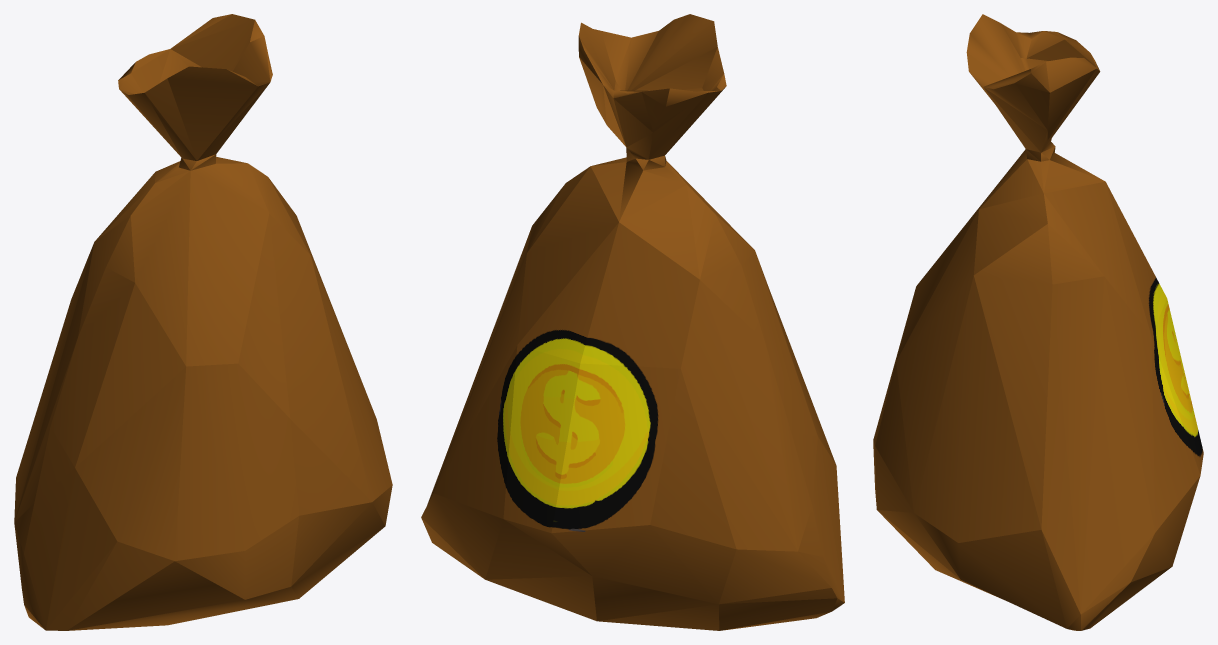
File: CoinsSack.fbx
3 renders of one model, left to right at view 1: azimuth 30°, elevation 25°; view 2: azimuth 150°, elevation 25°; view 3: azimuth 270°, elevation 25°, orthographic. The views are drawn at different scales.
Parts seen in each view (by area): view 1: Money_Sack_B4; view 2: Money_Sack_B4; view 3: Money_Sack_B4.
Part boxes in pixels (<box>): Money_Sack_B4: <box>14,14,392,630</box>; Money_Sack_B4: <box>421,14,844,630</box>; Money_Sack_B4: <box>873,14,1203,630</box>.
Size of the model in its own units: 2.62 by 3.66 by 2.05.
1 material, 1 textured.
